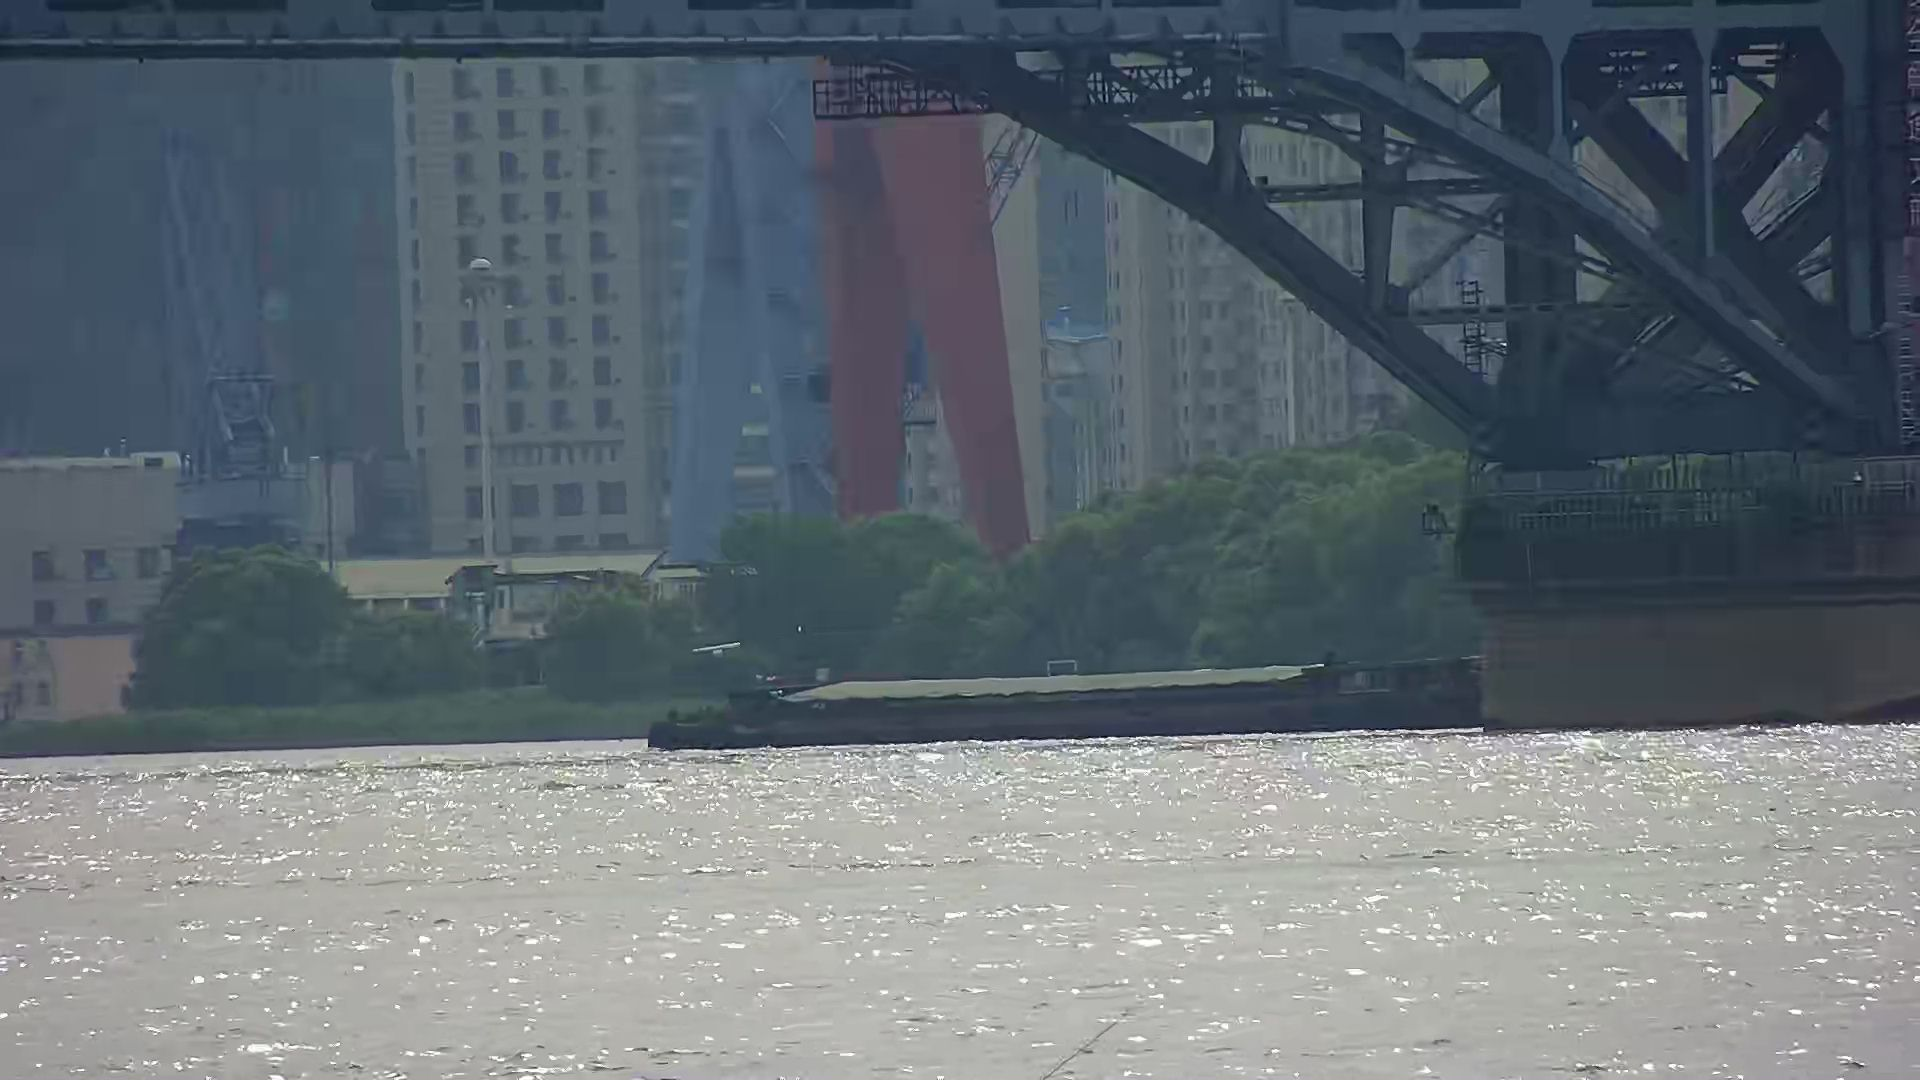bridge: (1, 1, 1912, 727)
ship: (613, 663, 1493, 753)
